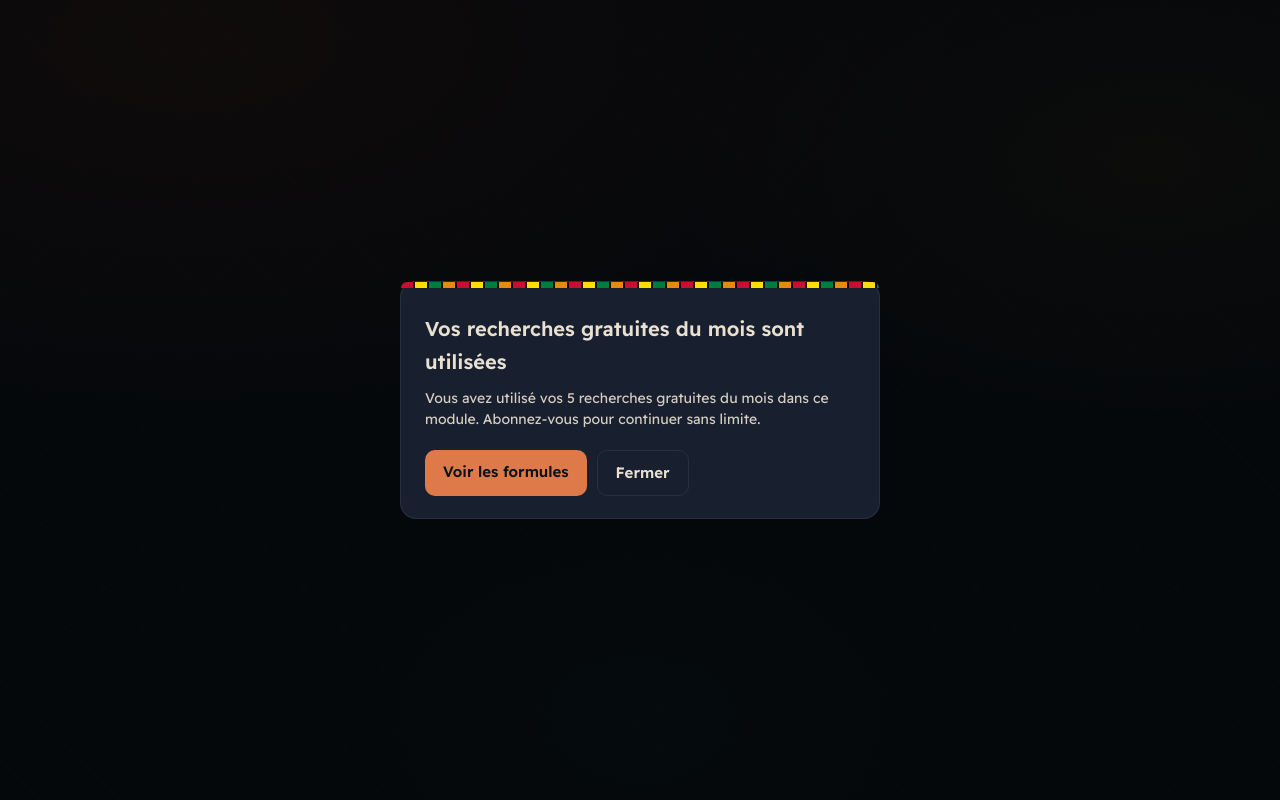
Test case: InvitationAbonnement › invite à s'abonner quand les 5 recherches du mois sont utilisées
Expected: the dialog shows "vos 5 recherches gratuites du mois", [425, 389, 829, 428]
Click the button "Fermer" at (643, 473), box [597, 450, 689, 496]
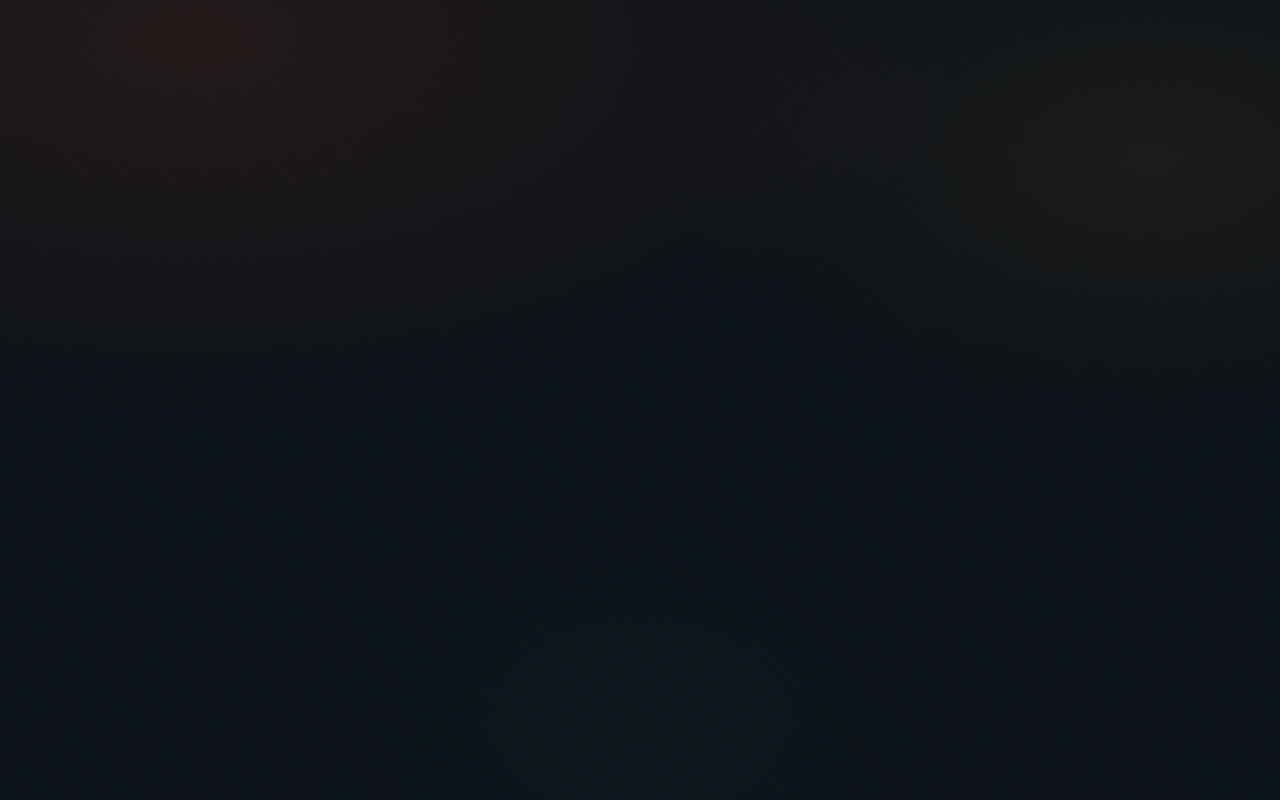
Now the dialog is gone
